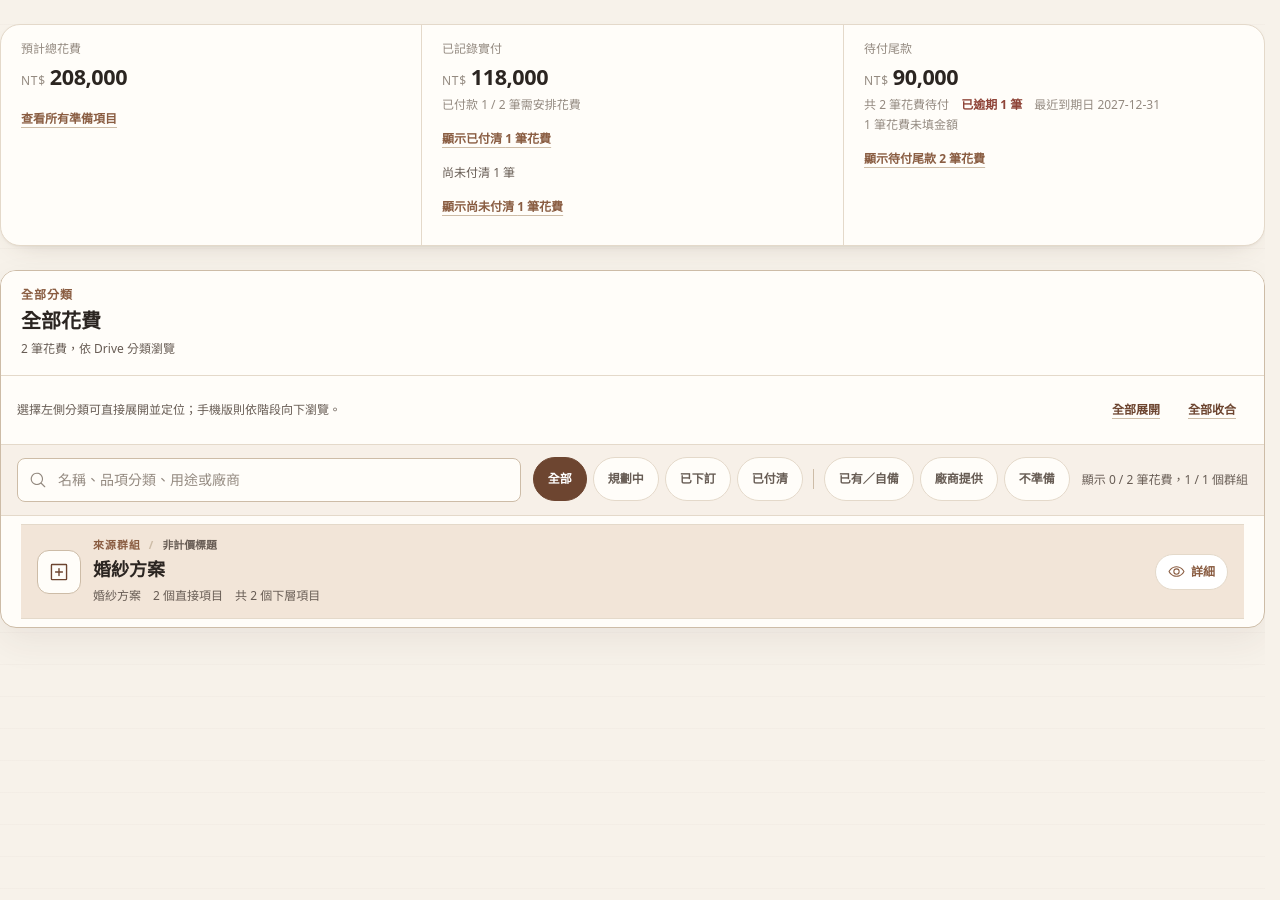
BudgetList › uses explicit expense and group units in summary and active-filter result counts
The image size is (1280, 900).
Expected: the button "查看所有準備項目" is shown, [21,97,117,141]
Expected: the text "已付款 1 / 2 筆需安排花費" is shown, [442,96,581,113]
Click the button "已付清" at (770, 479), box [737,457,803,501]
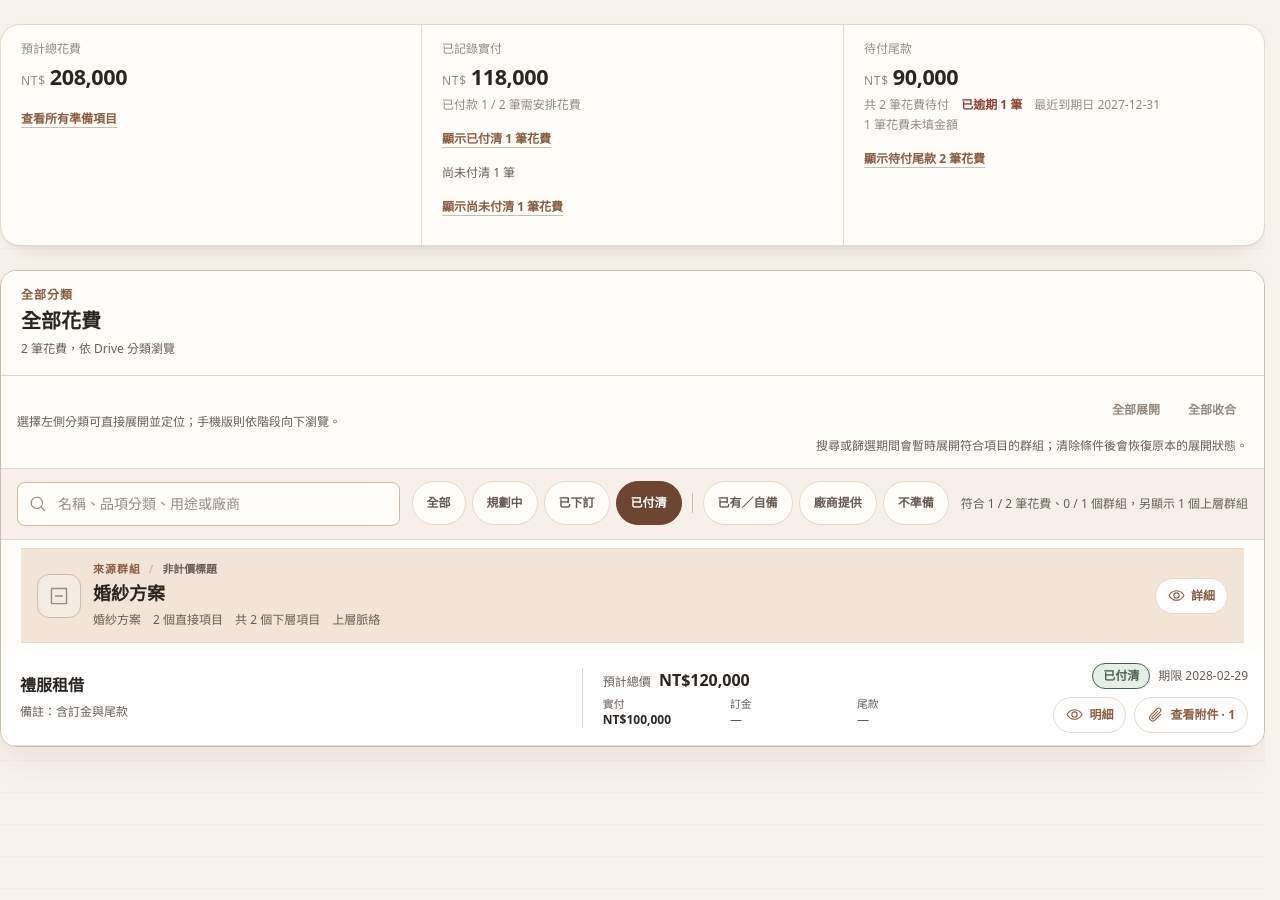
Expected: the text "符合 1 / 2 筆花費、0 / 1 個群組，另顯示 1 個上層群組" is shown, [961,496,1248,512]
